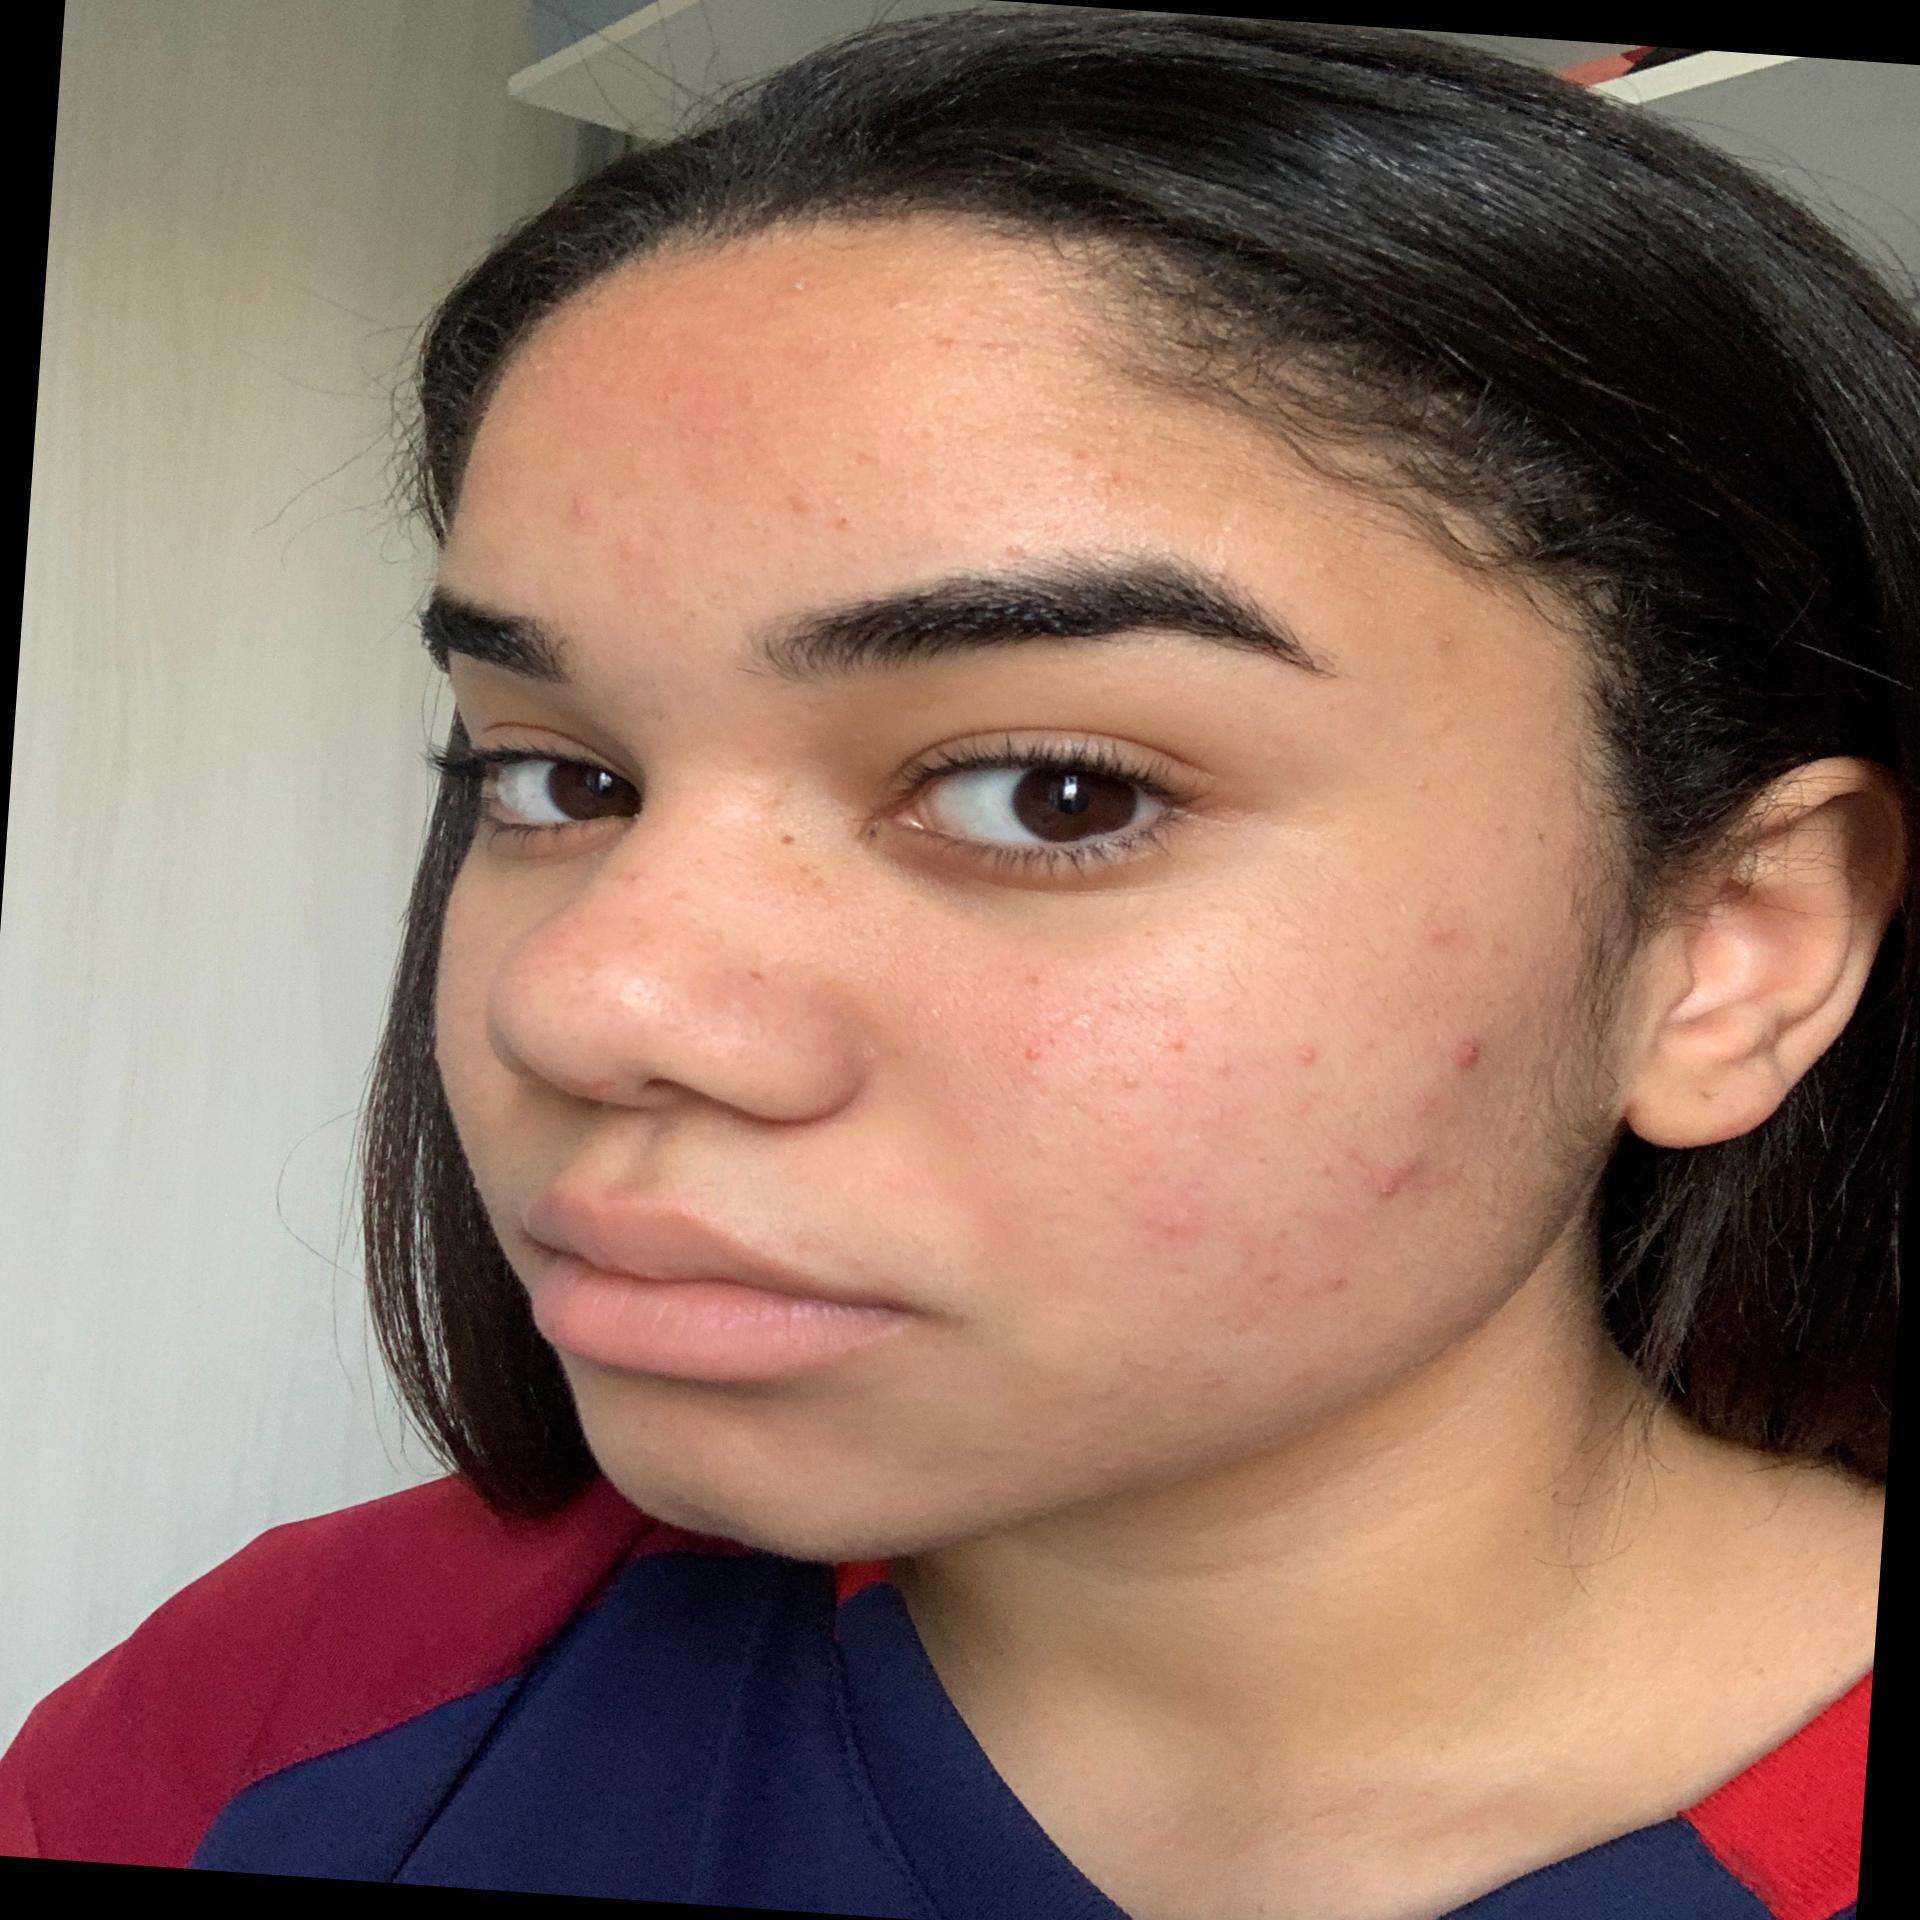Acne: (1340, 1148, 1444, 1203), (927, 331, 1020, 364), (1442, 1032, 1503, 1081), (1303, 1259, 1361, 1303), (876, 420, 934, 461), (1083, 468, 1138, 508), (605, 526, 651, 571), (1291, 1146, 1343, 1182), (1194, 1366, 1243, 1401), (1482, 930, 1524, 971), (1271, 1201, 1315, 1240), (1002, 1037, 1058, 1067), (1401, 1094, 1458, 1124), (767, 485, 825, 513), (1236, 1259, 1284, 1292), (1136, 1217, 1183, 1250), (1414, 923, 1465, 953), (1473, 814, 1521, 846), (819, 503, 865, 535), (1058, 443, 1101, 476), (1194, 1055, 1248, 1080), (1289, 1043, 1331, 1071), (1106, 1067, 1146, 1095), (1424, 622, 1461, 651), (556, 494, 584, 529), (1401, 774, 1444, 796), (781, 280, 816, 306), (1157, 1034, 1194, 1057), (985, 545, 1044, 559), (1241, 1150, 1275, 1173)
Blackhead: (600, 967, 680, 1027)
Englarged Pores: (939, 1074, 1057, 1162), (900, 969, 972, 1030)
